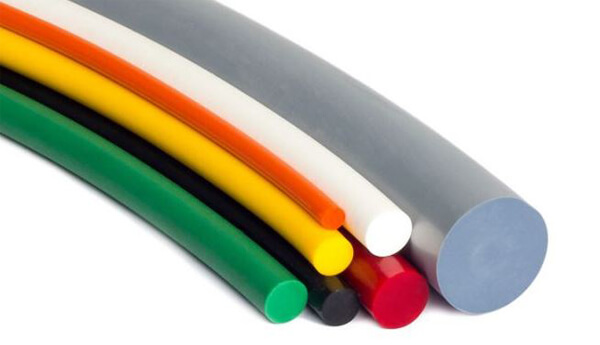Nonrec_Tangler: (7, 4, 558, 329)
